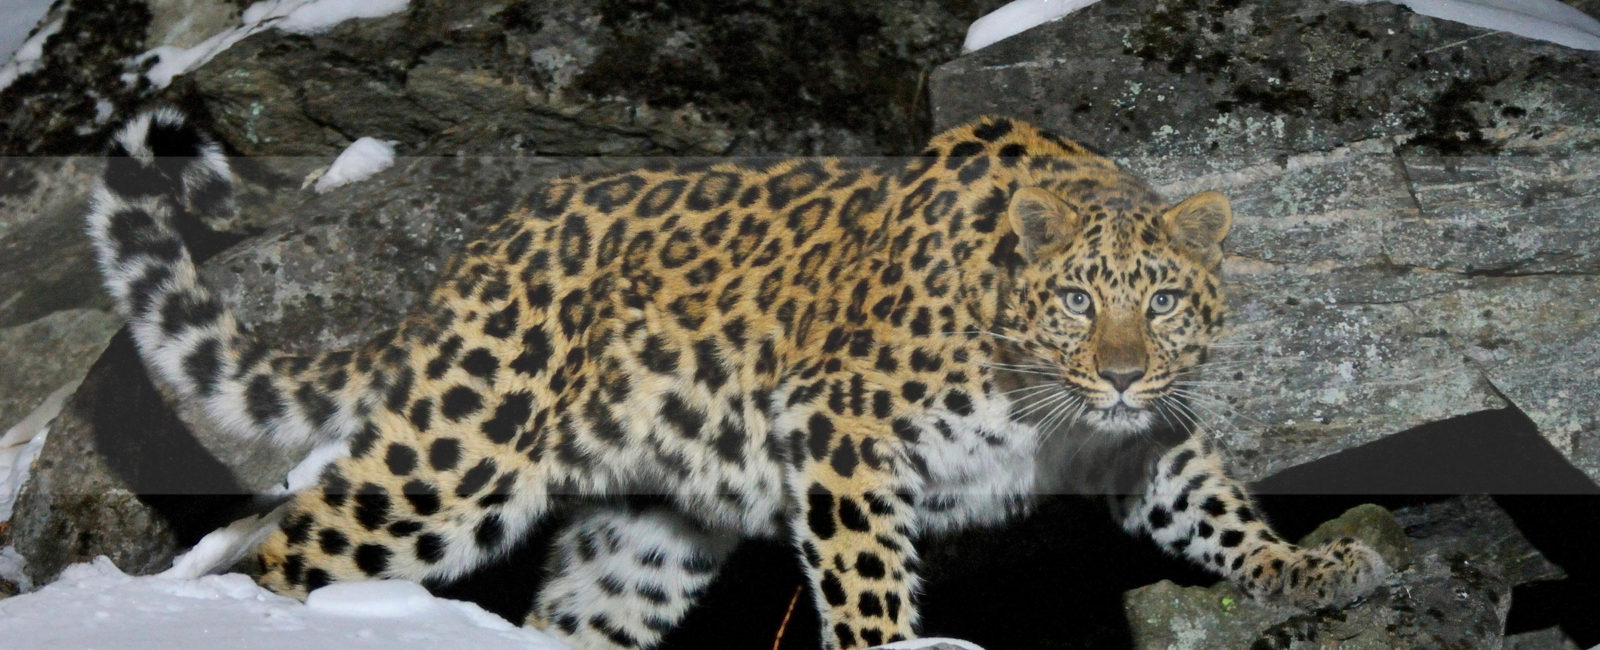amur_leopard: (105, 107, 1391, 639)
